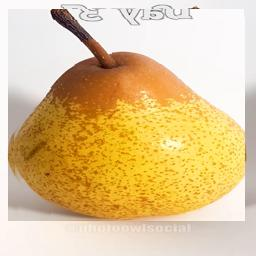Pear Semirotten: (9, 9, 246, 221)
